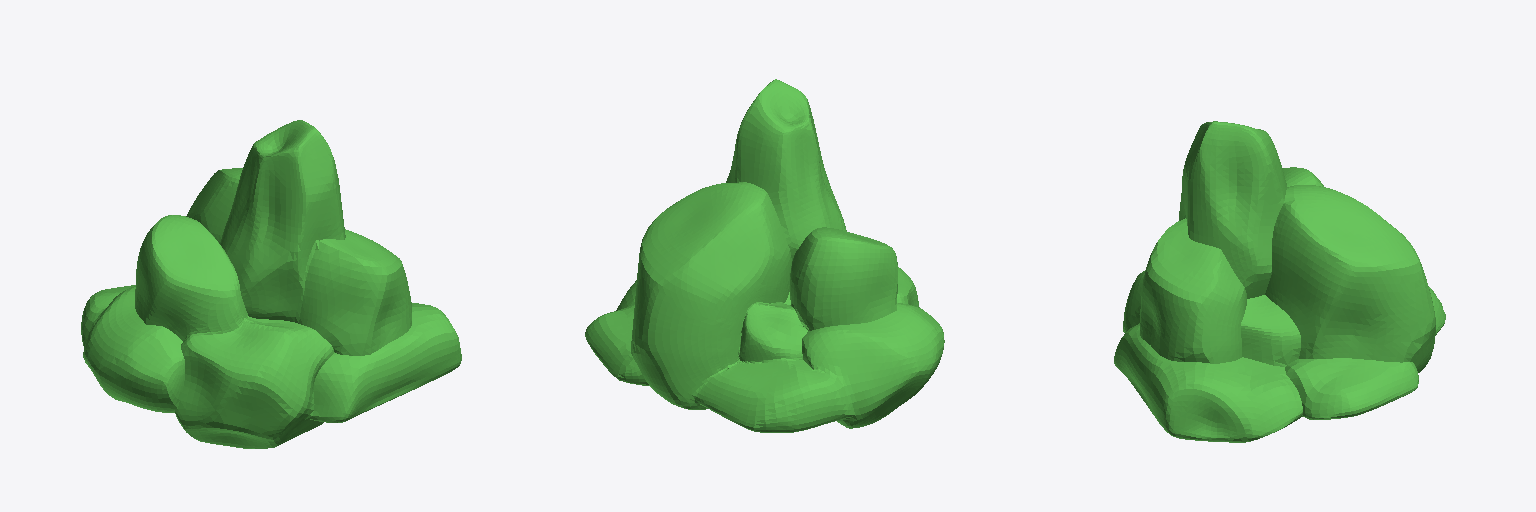
3 renders of one model, left to right at view 1: azimuth 30°, elevation 25°; view 2: azimuth 150°, elevation 25°; view 3: azimuth 270°, elevation 25°, orthographic.
Parts seen in each view (by area): view 1: Environment_Cliff2_mesh.004; view 2: Environment_Cliff2_mesh.004; view 3: Environment_Cliff2_mesh.004.
Boxes of the visible parts, <box> form: Environment_Cliff2_mesh.004: <box>81,120,461,448</box>; Environment_Cliff2_mesh.004: <box>585,79,944,432</box>; Environment_Cliff2_mesh.004: <box>1114,121,1445,442</box>.
Bounding box in the file's own units: 8 × 6.91 × 7.11.
Materials: 1 (1 with a texture image).